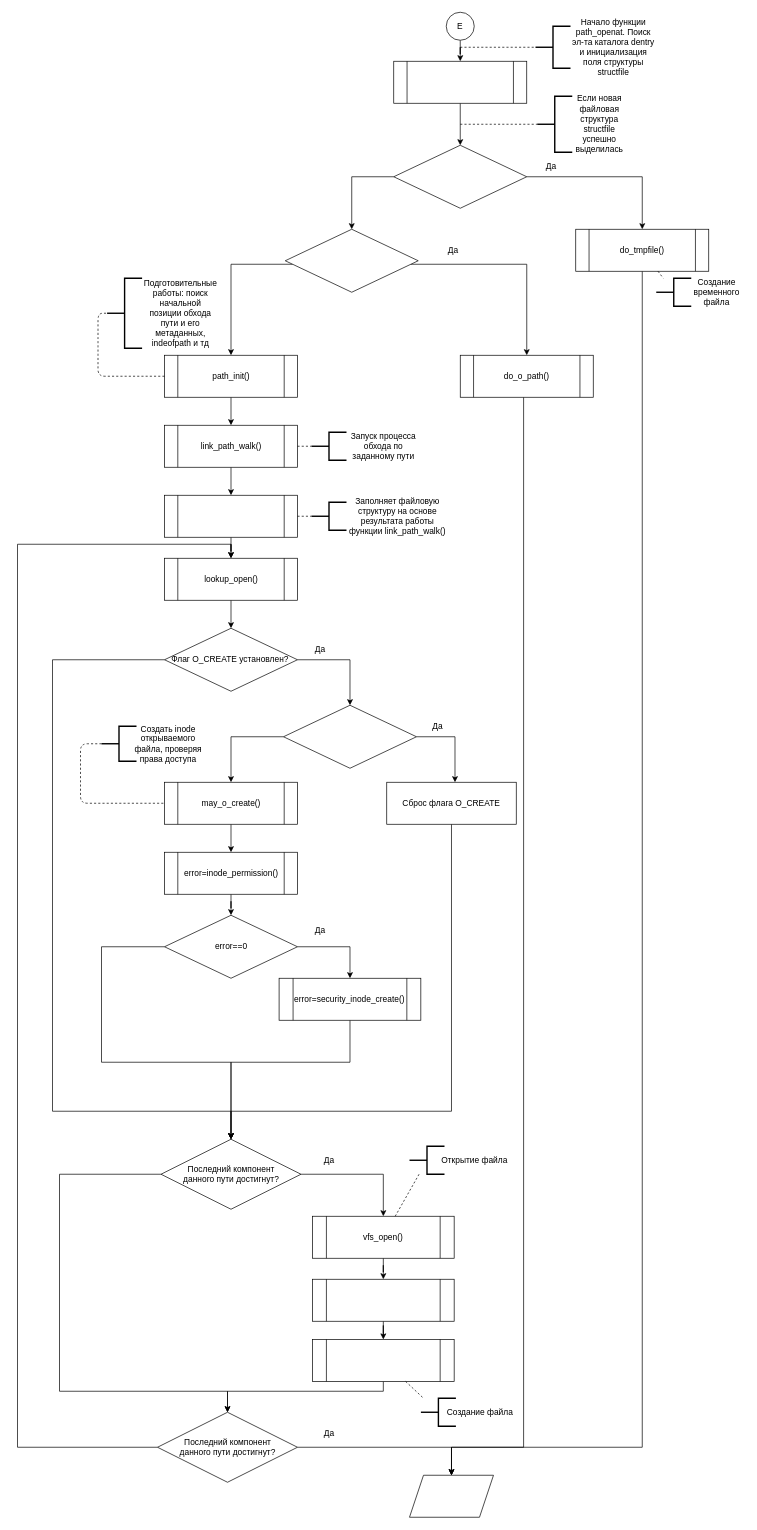
Image size: 757x1530. Some labels were removed from this diagram. Each missing label, with the centre of its shape:
do_entry_open(): the point at 383,1300
do_last(): the point at 231,516
file=alloc_empty_file(): the point at 460,82
inode файла существует?: the point at 349,736
security_file_open(): the point at 383,1360
Возврат structfile: the point at 451,1496
Флаг O_PATH установлен?: the point at 351,260
Флаг O_TMPFILE установлен?: the point at 460,176
